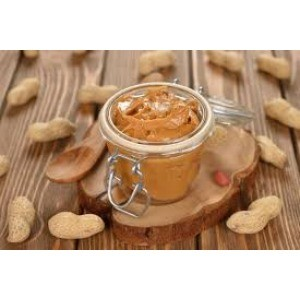peanut butter_brain food: (104, 88, 212, 196)
